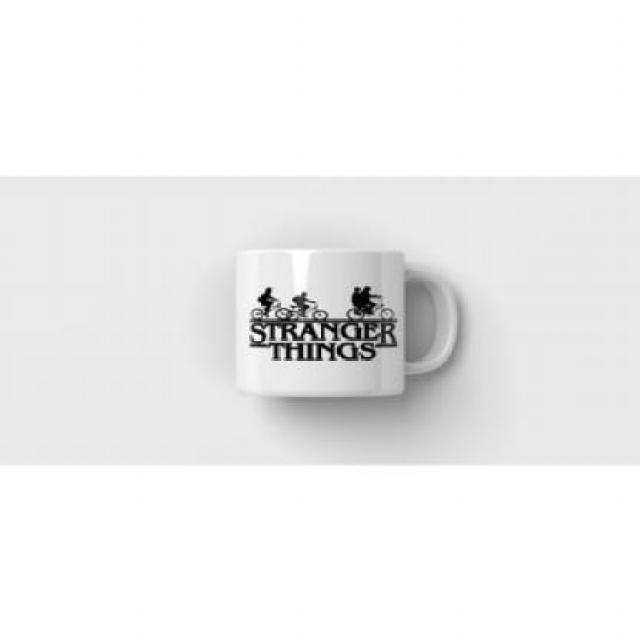taza: (229, 244, 465, 399)
